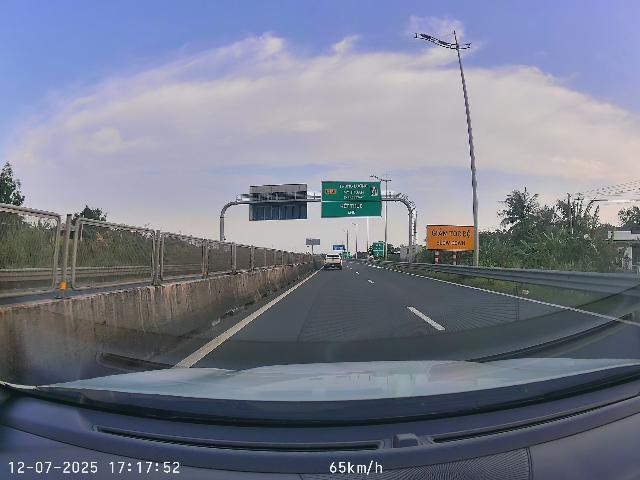438-ket-thuc-duong-cao-toc: (370, 186, 378, 196)
